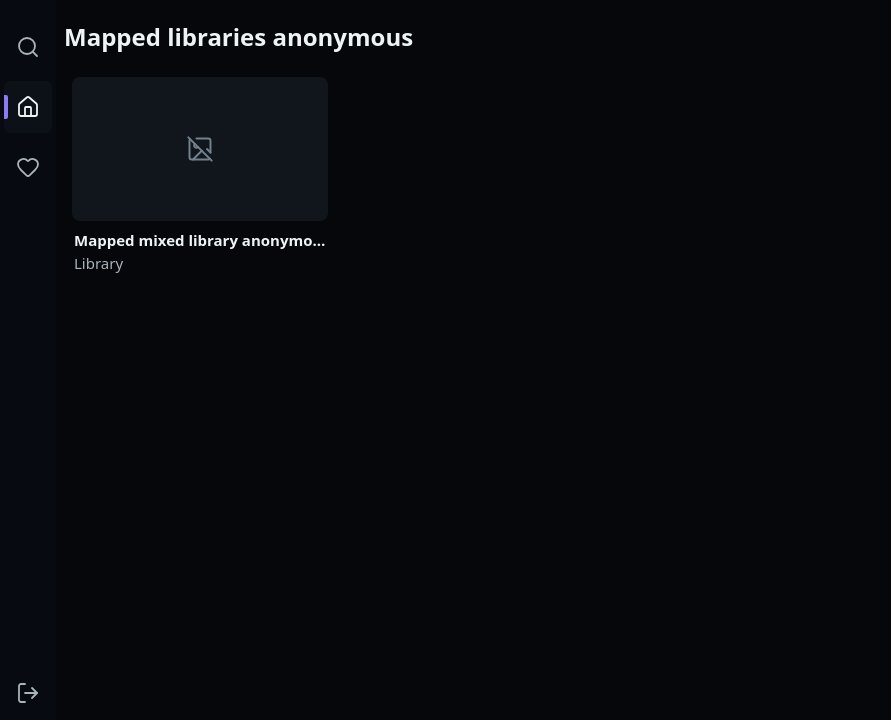
Test case: App browse route integration › opens a mapped blank collection type as mixed through the real client
Click the button with aria-label "Open Mapped mixed library anonymous". click: (200, 175)
box: [64,69,336,281]
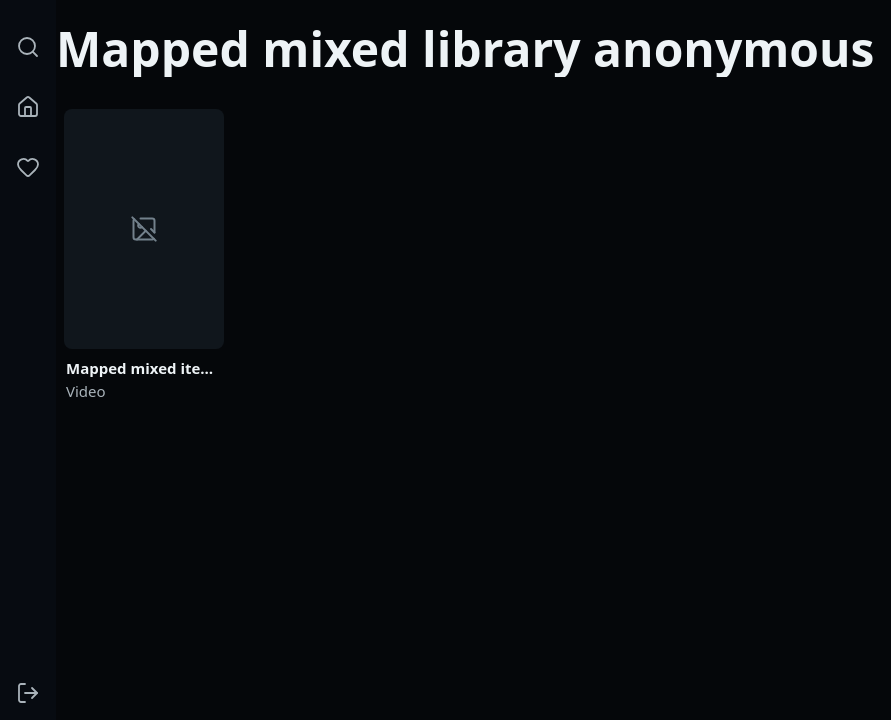
Expected: the heading "Mapped mixed library anonymous" is shown, [56,16,874,81]
Now the button with aria-label "Open Mapped mixed item anonymous" is shown, box [56,101,232,409]
